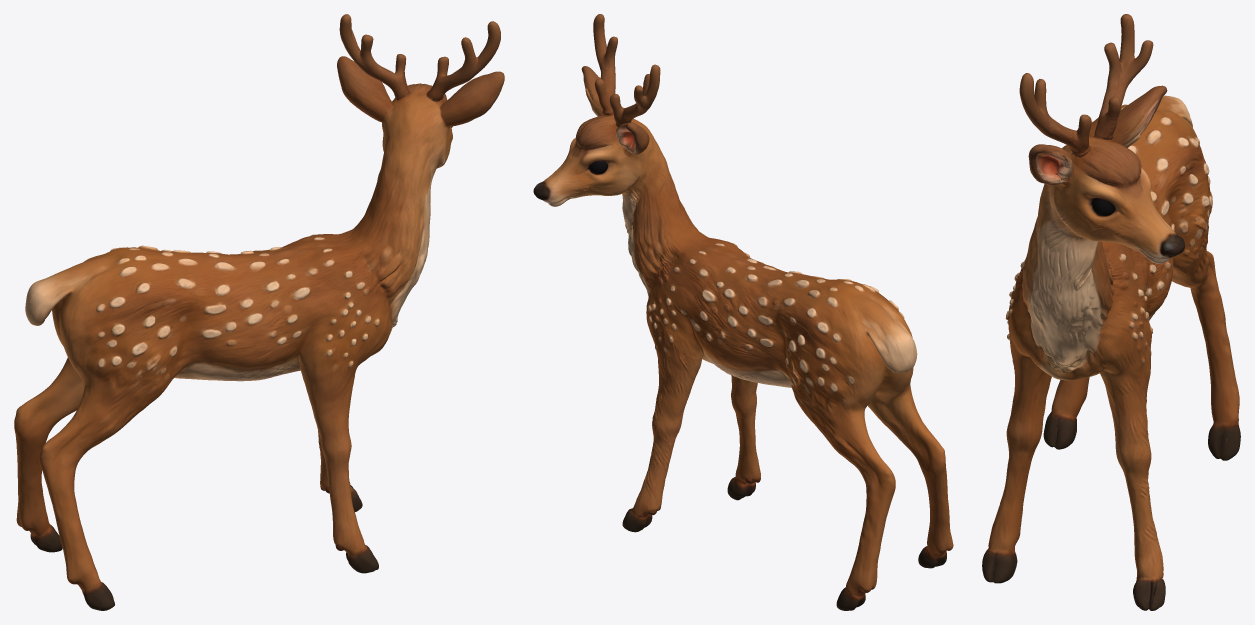
The model's file is raw.glb.
3 views of the same model, side by side, from view 1: azimuth 30°, elevation 25°; view 2: azimuth 150°, elevation 25°; view 3: azimuth 270°, elevation 25° (orthographic). The views are drawn at different scales.
Visible parts, largest first — view 1: tripo_node_1b53b016-ebe4-4040-b973-4f51670c71e6; view 2: tripo_node_1b53b016-ebe4-4040-b973-4f51670c71e6; view 3: tripo_node_1b53b016-ebe4-4040-b973-4f51670c71e6.
Part boxes in pixels (x1=…): tripo_node_1b53b016-ebe4-4040-b973-4f51670c71e6: x1=14, y1=14, x2=504, y2=610; tripo_node_1b53b016-ebe4-4040-b973-4f51670c71e6: x1=533, y1=14, x2=953, y2=610; tripo_node_1b53b016-ebe4-4040-b973-4f51670c71e6: x1=982, y1=14, x2=1240, y2=610.
Size of the model in its own units: 0.8743 by 0.9791 by 0.3926.
Materials: 1 (1 with a texture image).
